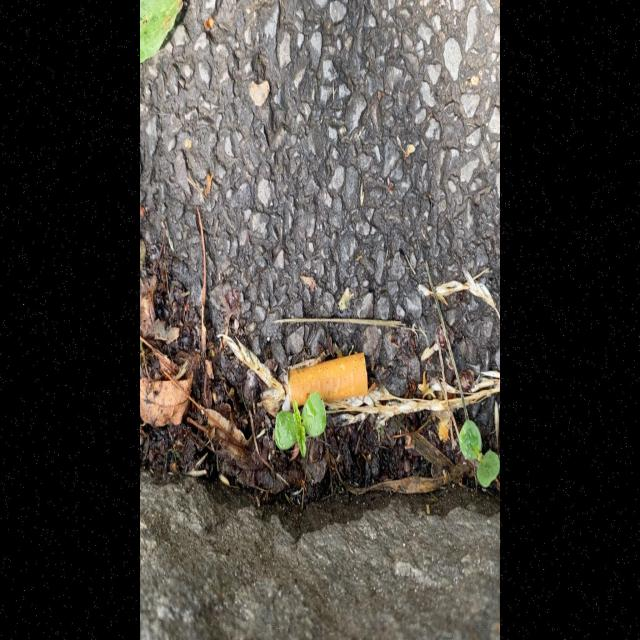other waste: (281, 351, 368, 412)
